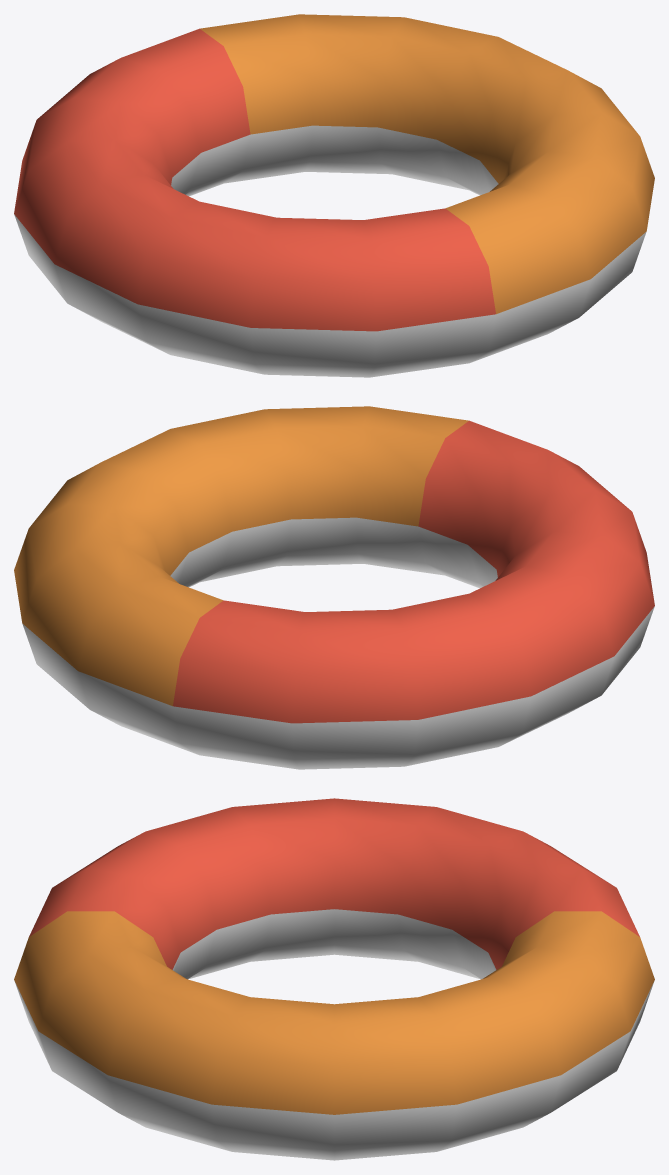
File: swim-ring-orange-peach.glb
3 renders of one model, top to bottom at view 1: azimuth 30°, elevation 25°; view 2: azimuth 150°, elevation 25°; view 3: azimuth 270°, elevation 25°, orthographic.
Parts seen in each view (by area): view 1: orange-peach; view 2: orange-peach; view 3: orange-peach.
Part boxes in pixels (x1,y1,x2,y2): orange-peach: (14,14,654,377); orange-peach: (14,406,654,769); orange-peach: (14,798,654,1160).
Size of what is drawn, in the model's own units: 1.9 by 0.4453 by 1.9.
